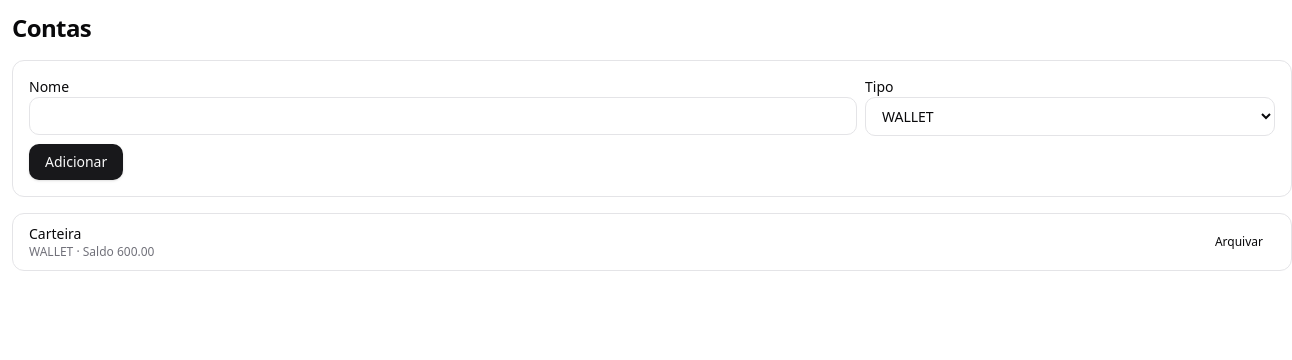
AccountsManager - task 4.7 › arquivar conta some da listagem
Expected: the text "Carteira" is shown, [29,224,81,243]
Step 1. Click the button with aria-label "Arquivar Carteira" → (1239, 242), box [1203,226,1275,258]
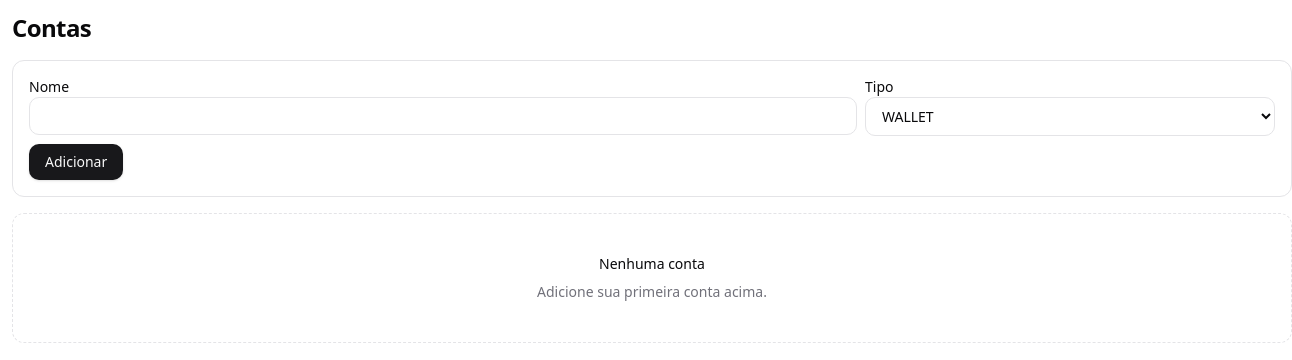
Now the text "Nenhuma conta" is shown, box [599,254,705,274]
Now the text "Carteira" is gone
